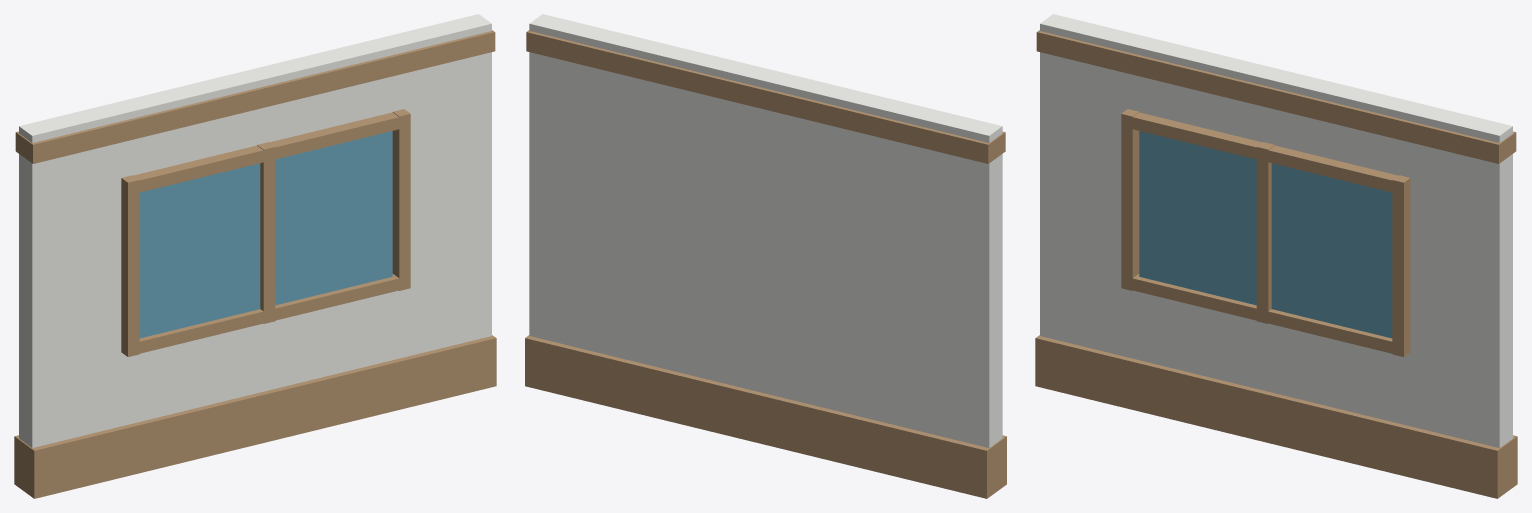
The model's file is golf-course-and-clubhouse-clubhouse-wall-bay-25f598b6__33493.glb.
3 renders of one model, left to right at view 1: azimuth 30°, elevation 25°; view 2: azimuth 150°, elevation 25°; view 3: azimuth 330°, elevation 25°, orthographic.
Parts seen in each view (by area): view 1: clubhouse-wall-bay; view 2: clubhouse-wall-bay; view 3: clubhouse-wall-bay.
Boxes of the visible parts, <box> form: clubhouse-wall-bay: <box>14,14,496,498</box>; clubhouse-wall-bay: <box>525,14,1006,498</box>; clubhouse-wall-bay: <box>1035,14,1517,498</box>.
Size of the model in its own units: 4.02 by 3 by 0.3602.
